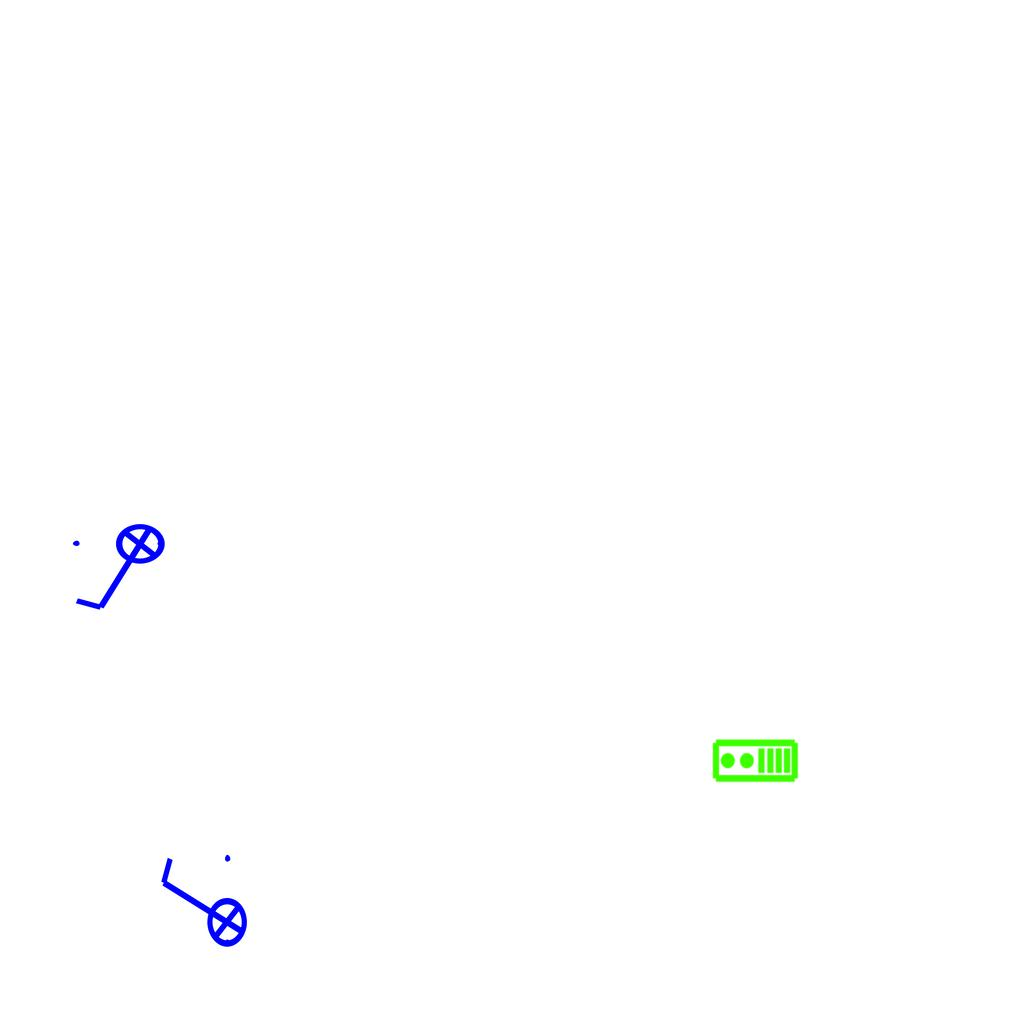Ausschalter_beleuchtet: (153, 849, 249, 961), (67, 522, 179, 618)
Gegensprechanlage_mit_Video: (711, 738, 799, 785)
